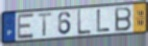6: (58, 11, 73, 36)
B: (114, 6, 133, 33)
E: (16, 12, 35, 40)
L: (77, 9, 92, 37), (96, 9, 111, 34)
T: (37, 12, 54, 38)
